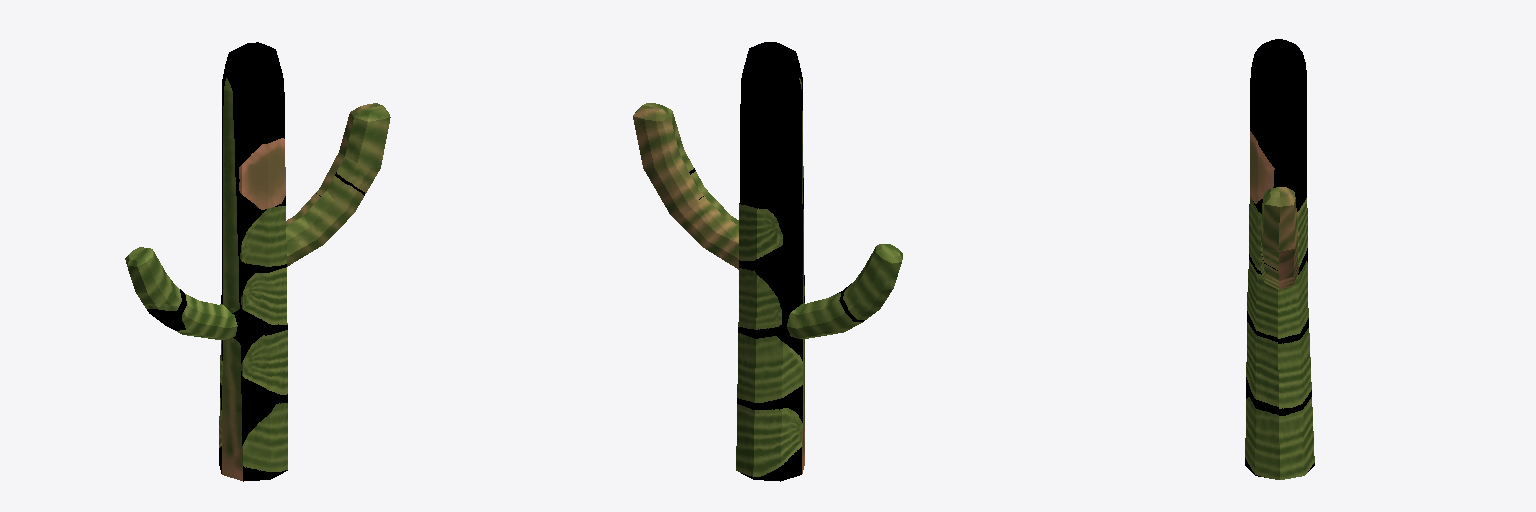
3 renders of one model, left to right at view 1: azimuth 30°, elevation 25°; view 2: azimuth 150°, elevation 25°; view 3: azimuth 270°, elevation 25°, orthographic.
Visible parts, largest first — view 1: cactus_2; view 2: cactus_2; view 3: cactus_2.
Boxes of the visible parts, box(x1,y1,x2,y2) form: cactus_2: box(125, 42, 390, 481); cactus_2: box(633, 42, 902, 481); cactus_2: box(1245, 39, 1314, 479).
Bounding box in the file's own units: 1.9 × 2.9 × 0.4359.
1 materials, 1 textured.